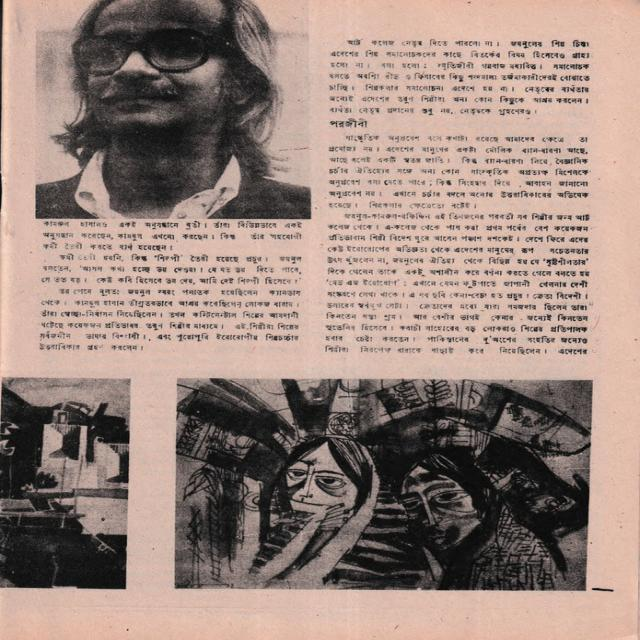image: (174, 378, 593, 592), (36, 0, 312, 220), (0, 378, 131, 590)
paragraph: (323, 212, 591, 354), (329, 38, 591, 117), (326, 133, 592, 210), (37, 287, 304, 351), (40, 253, 303, 285), (42, 220, 304, 251)
title: (329, 117, 370, 128)
